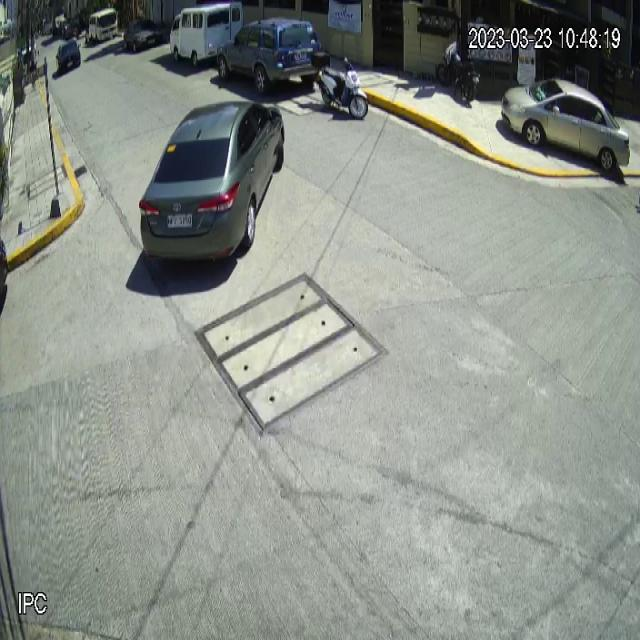Car: (138, 99, 286, 266), (500, 76, 630, 173), (217, 16, 322, 95)
Motorcycle: (311, 51, 368, 120)
Van: (170, 0, 244, 67)
